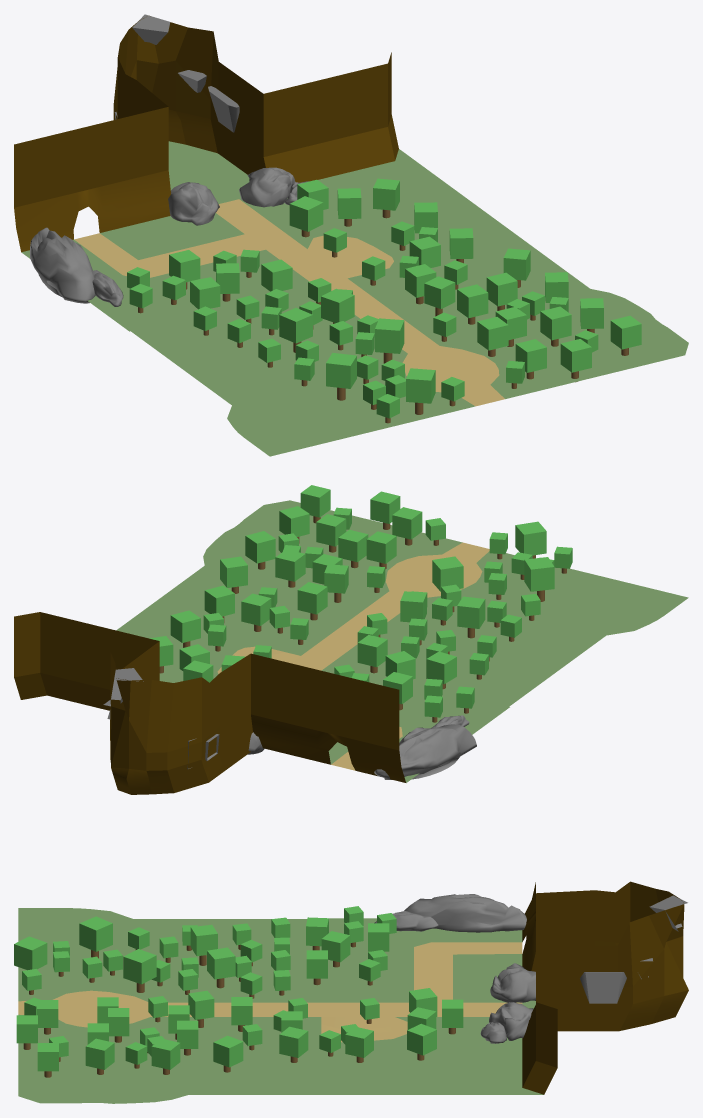
The model's file is map trial ll.fbx.
3 renders of one model, top to bottom at view 1: azimuth 30°, elevation 25°; view 2: azimuth 150°, elevation 25°; view 3: azimuth 270°, elevation 25°, orthographic. The views are drawn at different scales.
Visible parts, largest first — view 1: pCube80; view 2: pCube80; view 3: pCube80.
Boxes of the visible parts, <box> form: pCube80: <box>14,14,688,456</box>; pCube80: <box>14,485,688,794</box>; pCube80: <box>14,881,688,1103</box>.
Size of the model in its own units: 22.46 by 6.72 by 32.71.
